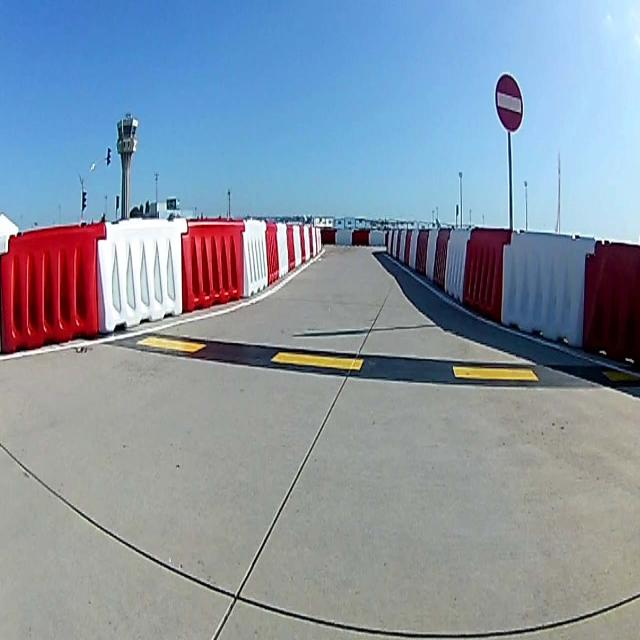girisyok: (493, 70, 525, 134)
